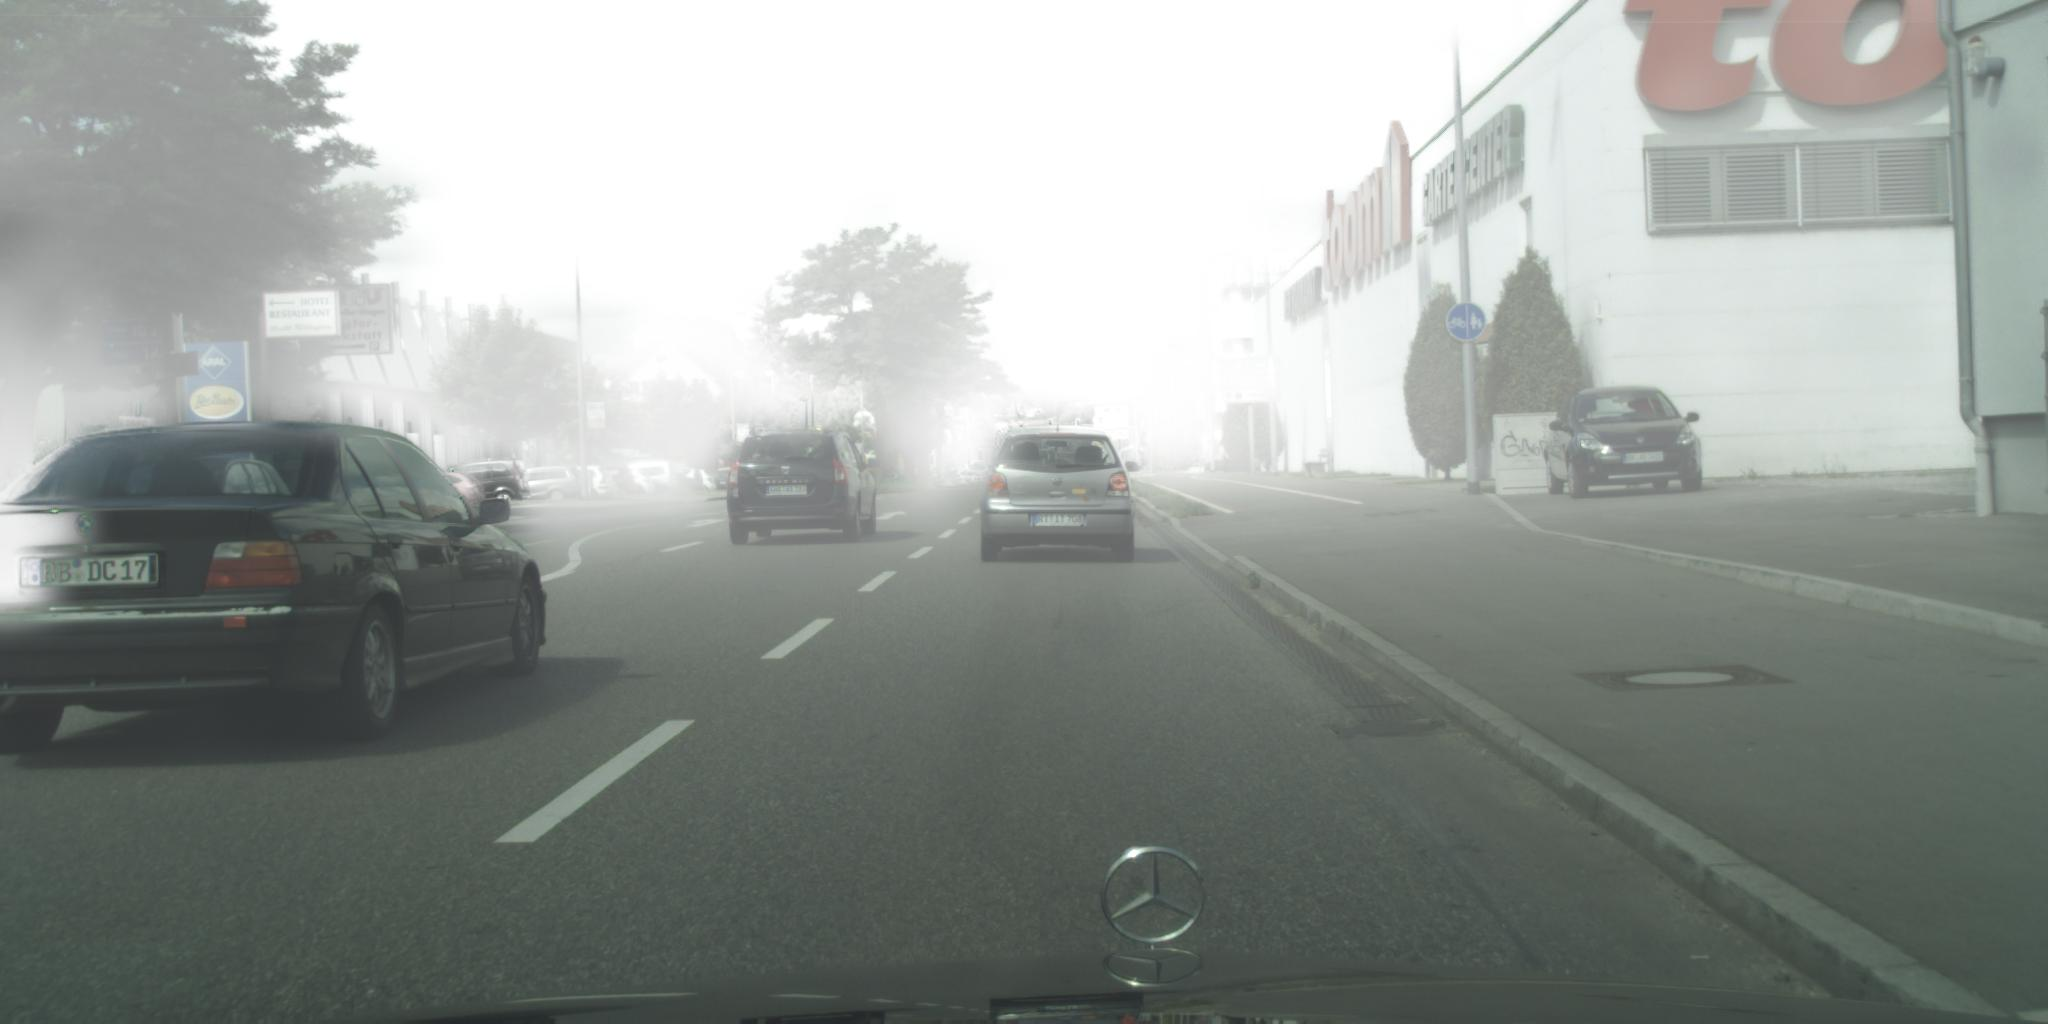car: (1, 422, 550, 758), (972, 426, 1135, 566), (1544, 383, 1704, 499), (728, 431, 883, 546), (445, 462, 530, 509), (515, 465, 584, 502), (441, 470, 488, 508), (568, 470, 619, 498)
